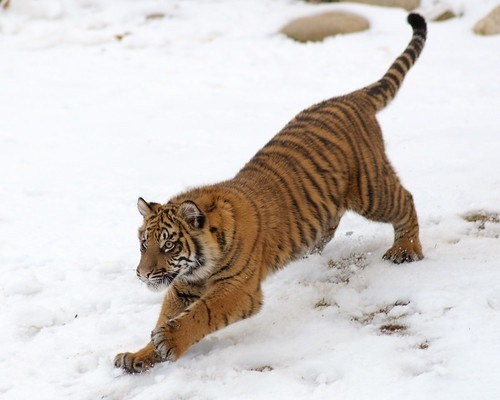tigre: (110, 8, 431, 379)
